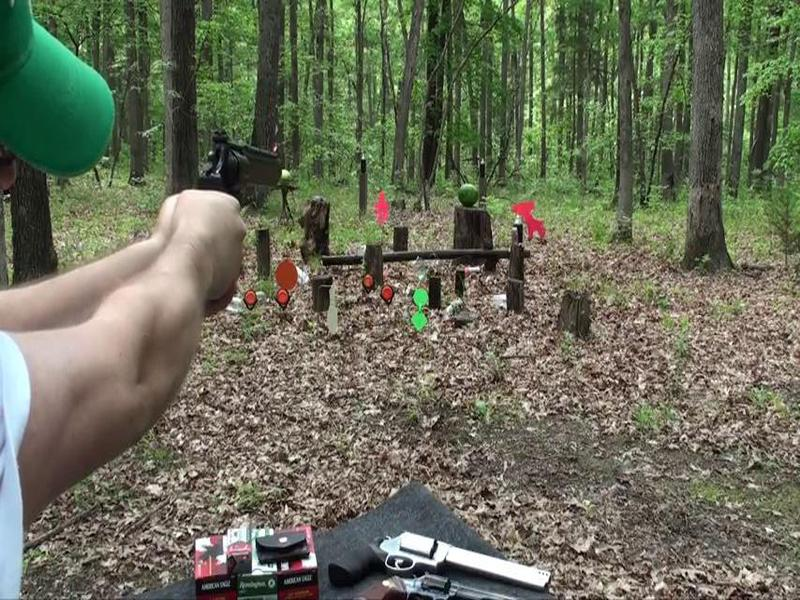Revolver: (158, 124, 287, 243)
